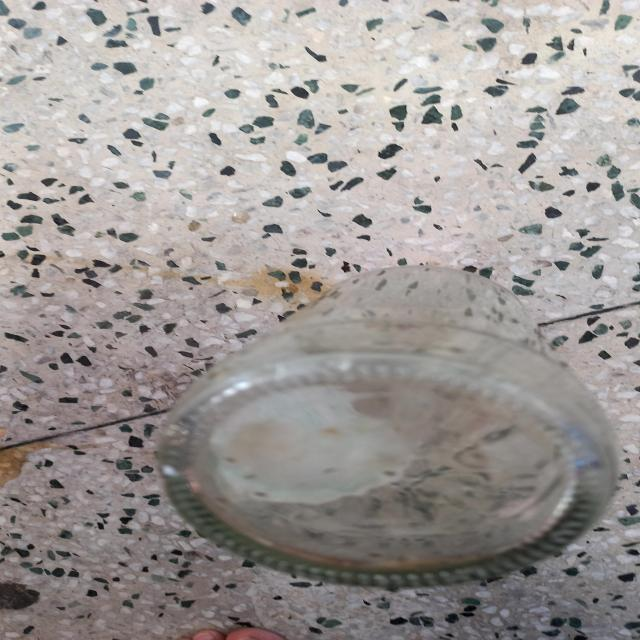Glass: (156, 264, 618, 587)
